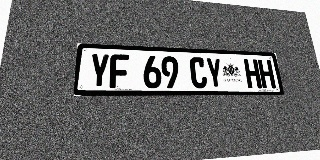6: (143, 55, 162, 88)
9: (161, 56, 180, 88)
C: (189, 57, 208, 88)
F: (109, 54, 129, 88)
H: (243, 59, 262, 88), (258, 60, 276, 88)
Y: (89, 53, 110, 88), (205, 58, 224, 88)
